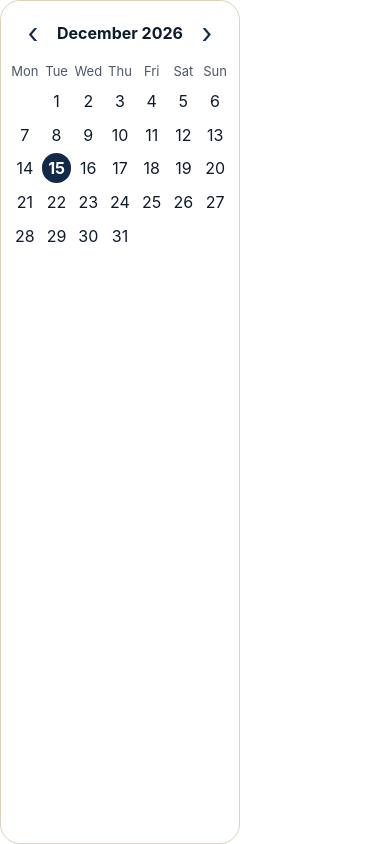
Test: DatePicker › moves between months, including across a year end
Expected: the heading "December 2026" is shown, [57, 23, 183, 43]
Click the button with test id "date-next".
click(207, 33)  # box [183, 9, 231, 57]
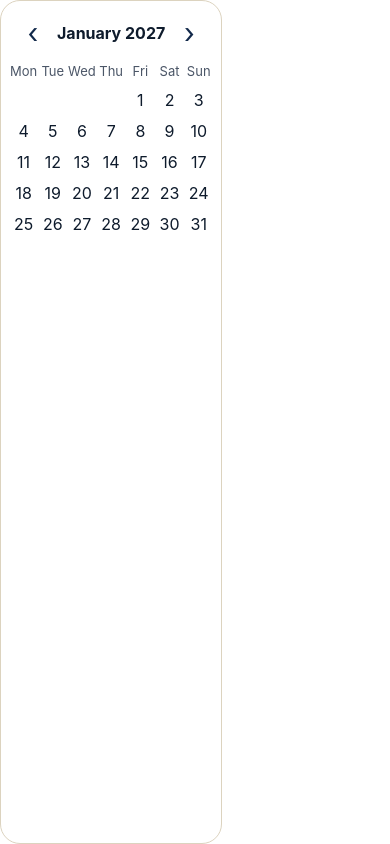
Expected: the heading "January 2027" is shown, [57, 23, 165, 43]
Click the button with test id "date-prev".
click(33, 33)  # box [9, 9, 57, 57]
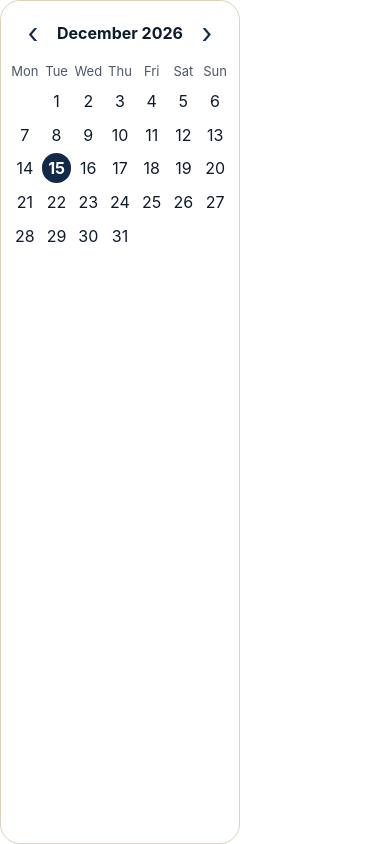
Click the button with test id "date-prev".
click(33, 33)  # box [9, 9, 57, 57]
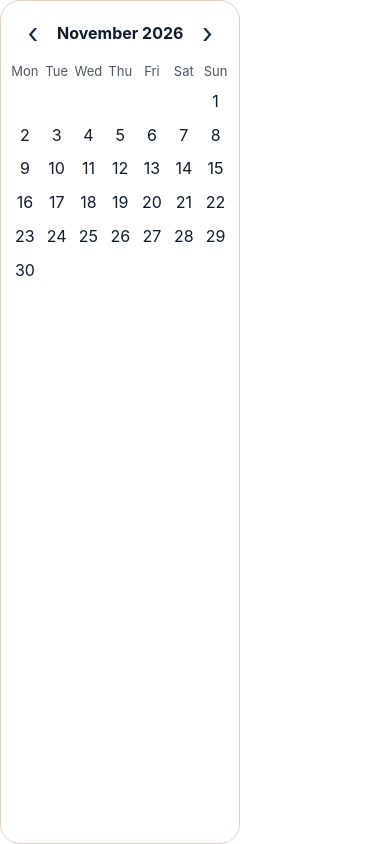
Expected: the heading "November 2026" is shown, [57, 23, 183, 43]
